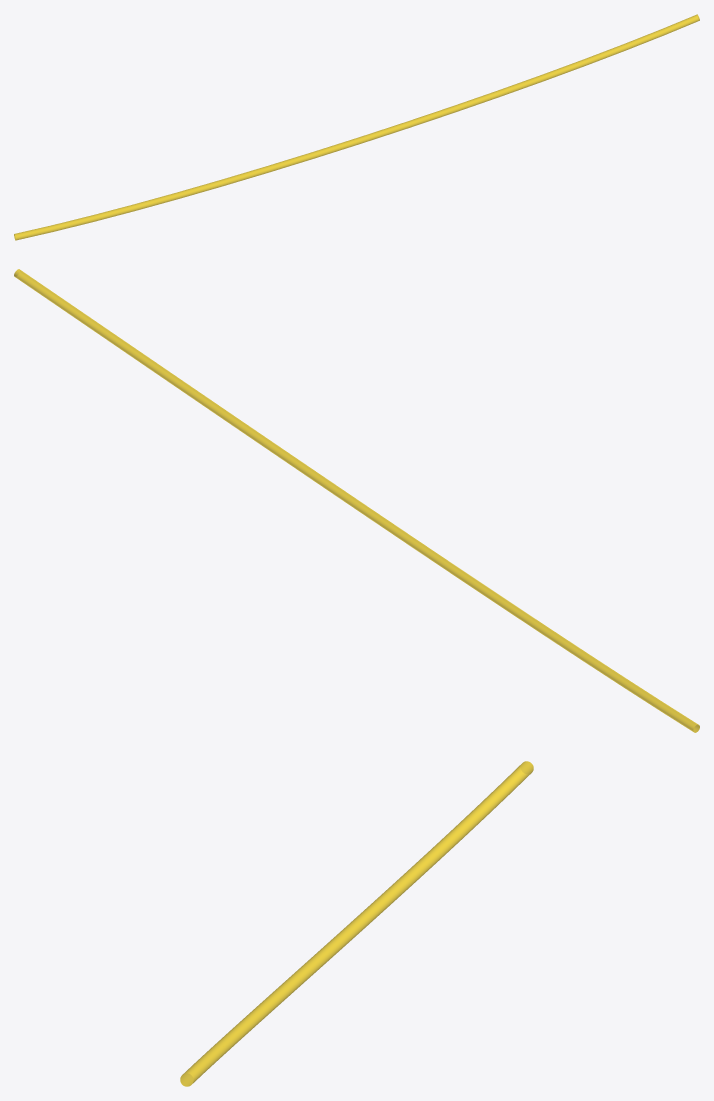
Rendered from Event_75125125_track_3.fbx.
3 renders of one model, top to bottom at view 1: azimuth 30°, elevation 25°; view 2: azimuth 150°, elevation 25°; view 3: azimuth 270°, elevation 25°, orthographic. The views are drawn at different scales.
Visible parts, largest first — view 1: Model; view 2: Model; view 3: Model.
Part boxes in pixels (left/top/right/bottom): Model: left=14, top=14, right=699, bottom=240; Model: left=14, top=269, right=699, bottom=732; Model: left=180, top=761, right=533, bottom=1086.
Bounding box in the file's own units: 4.05 × 0.9157 × 1.03.
